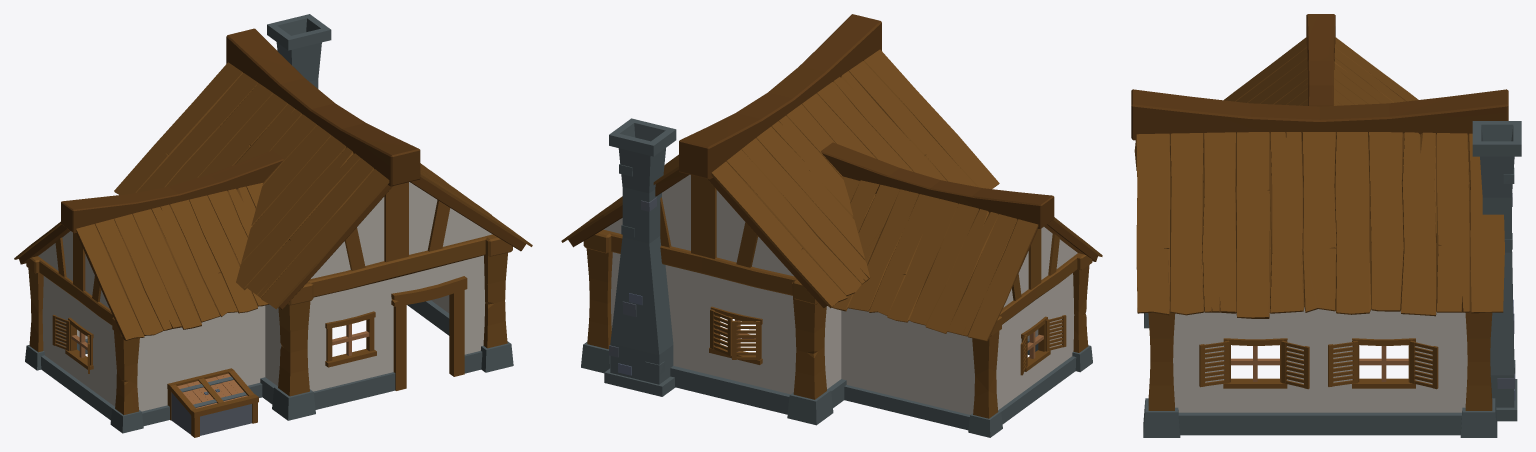
File: House_04.fbx
The picture shows the model from 3 angles, left to right: view 1: azimuth 30°, elevation 25°; view 2: azimuth 150°, elevation 25°; view 3: azimuth 270°, elevation 25°; orthographic projection. The views are drawn at different scales.
Visible parts, largest first — view 1: House_04; view 2: House_04; view 3: House_04.
Part boxes in pixels (left/top/right/bottom): House_04: left=14, top=14, right=532, bottom=437; House_04: left=561, top=14, right=1102, bottom=437; House_04: left=1131, top=14, right=1521, bottom=437.
Size of the model in its own units: 900 by 543 by 688.
